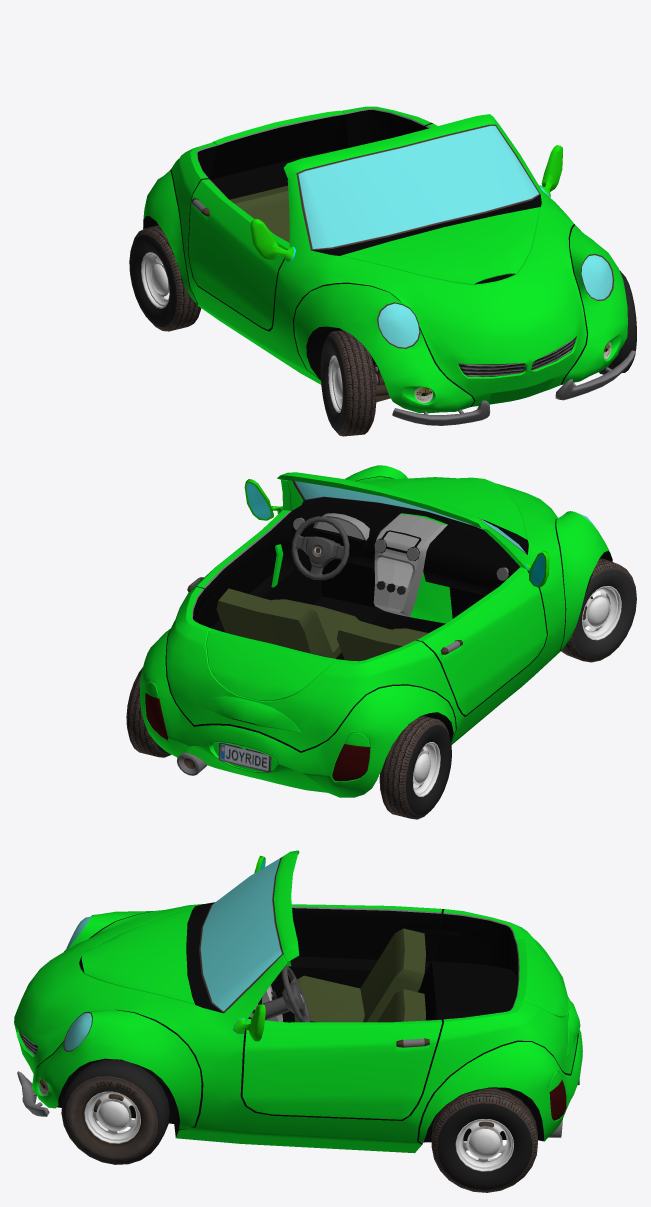
Rendered from shwcar1.gltf.
3 views of the same model, one above another, from view 1: azimuth 30°, elevation 25°; view 2: azimuth 150°, elevation 25°; view 3: azimuth 270°, elevation 25° (orthographic). The views are drawn at different scales.
Parts seen in each view (by area): view 1: node_id162, node_id174, node_id182, node_id164, node_id152, node_id86, node_id157, node_id166, node_id107, node_id159, node_id150, node_id168 (+5 smaller); view 2: node_id162, node_id164, node_id182, node_id105, node_id180, node_id159, node_id150, node_id107, node_id110, node_id157, node_id196, node_id148 (+8 smaller); view 3: node_id162, node_id164, node_id182, node_id174, node_id107, node_id143, node_id136, node_id138, node_id145, node_id141, node_id134, node_id110 (+6 smaller).
Part boxes in pixels (<box>): node_id162: <box>143,106,627,413</box>; node_id174: <box>298,126,612,347</box>; node_id182: <box>197,110,428,190</box>; node_id164: <box>143,123,587,406</box>; node_id152: <box>326,330,376,436</box>; node_id86: <box>392,350,635,425</box>; node_id157: <box>129,234,176,326</box>; node_id166: <box>296,124,614,348</box>; node_id107: <box>229,185,289,242</box>; node_id159: <box>131,225,201,331</box>; node_id150: <box>320,337,346,431</box>; node_id168: <box>458,336,576,376</box>; node_id162: <box>140,465,609,797</box>; node_id164: <box>165,476,612,754</box>; node_id182: <box>193,501,519,659</box>; node_id105: <box>216,588,359,658</box>; node_id180: <box>313,513,447,616</box>; node_id159: <box>379,715,449,819</box>; node_id150: <box>572,569,636,658</box>; node_id107: <box>337,618,427,661</box>; node_id110: <box>291,516,349,580</box>; node_id157: <box>405,725,451,815</box>; node_id196: <box>145,692,370,781</box>; node_id148: <box>582,586,621,640</box>; node_id162: <box>14,850,582,1153</box>; node_id164: <box>36,902,578,1144</box>; node_id182: <box>248,908,518,1019</box>; node_id174: <box>64,858,281,1050</box>; node_id107: <box>294,928,425,1022</box>; node_id143: <box>437,1103,532,1189</box>; node_id136: <box>65,1076,157,1161</box>; node_id138: <box>61,1059,169,1164</box>; node_id145: <box>431,1087,537,1192</box>; node_id141: <box>455,1119,513,1171</box>; node_id134: <box>84,1091,140,1143</box>; node_id110: <box>262,966,310,1022</box>.
Bounding box in the file's own units: 0.6777 × 0.3549 × 0.8794.
Materials: 45 (23 with a texture image).
